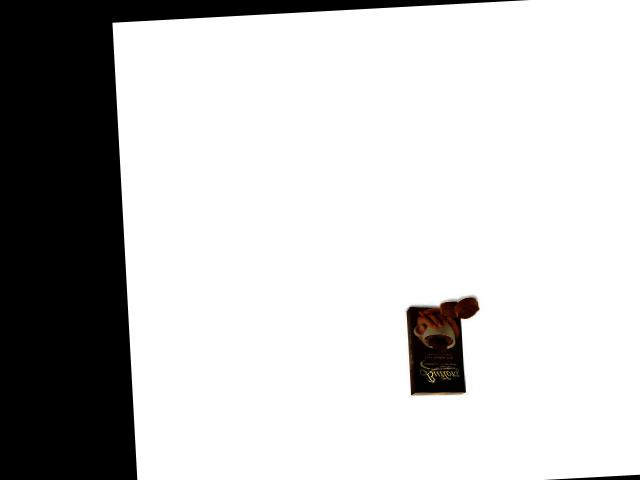chocolate: (402, 301, 473, 400)
